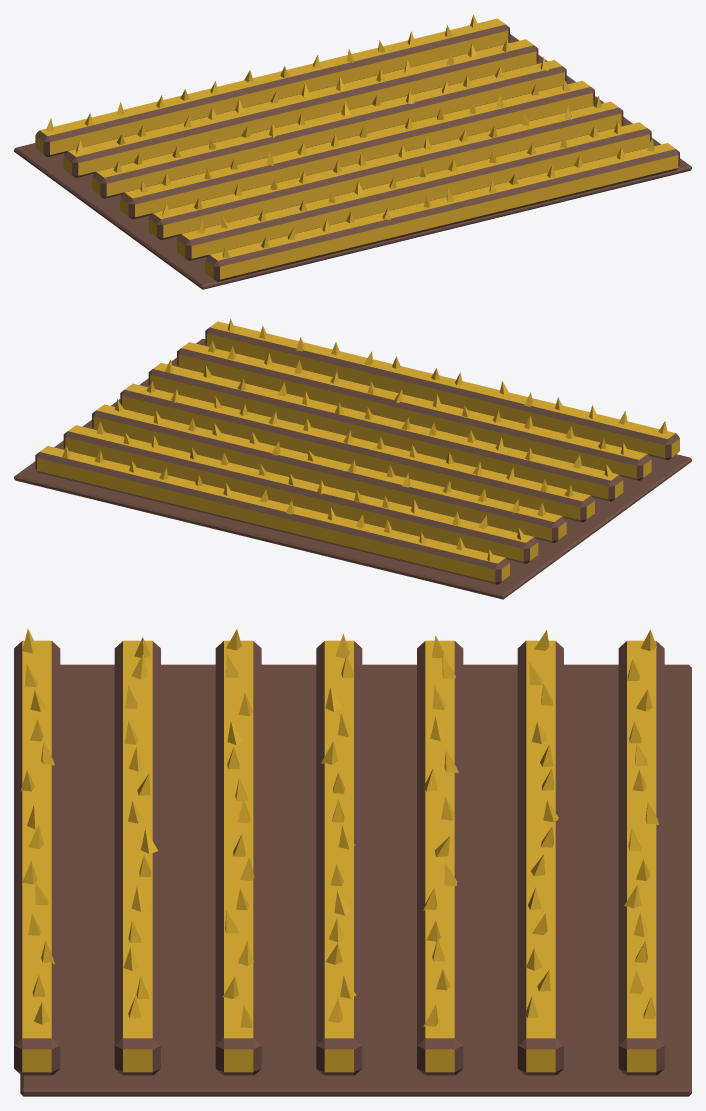
The model's file is field.glb.
3 views of the same model, one above another, from view 1: azimuth 30°, elevation 25°; view 2: azimuth 150°, elevation 25°; view 3: azimuth 270°, elevation 25° (orthographic). The views are drawn at different scales.
Parts seen in each view (by area): view 1: field-m; view 2: field-m; view 3: field-m.
Boxes of the visible parts, box(x1,y1,x2,y2) form: field-m: box(14, 14, 691, 289); field-m: box(14, 319, 691, 599); field-m: box(14, 629, 691, 1096).
Size of the model in its own units: 12 by 0.87 by 8.07.
